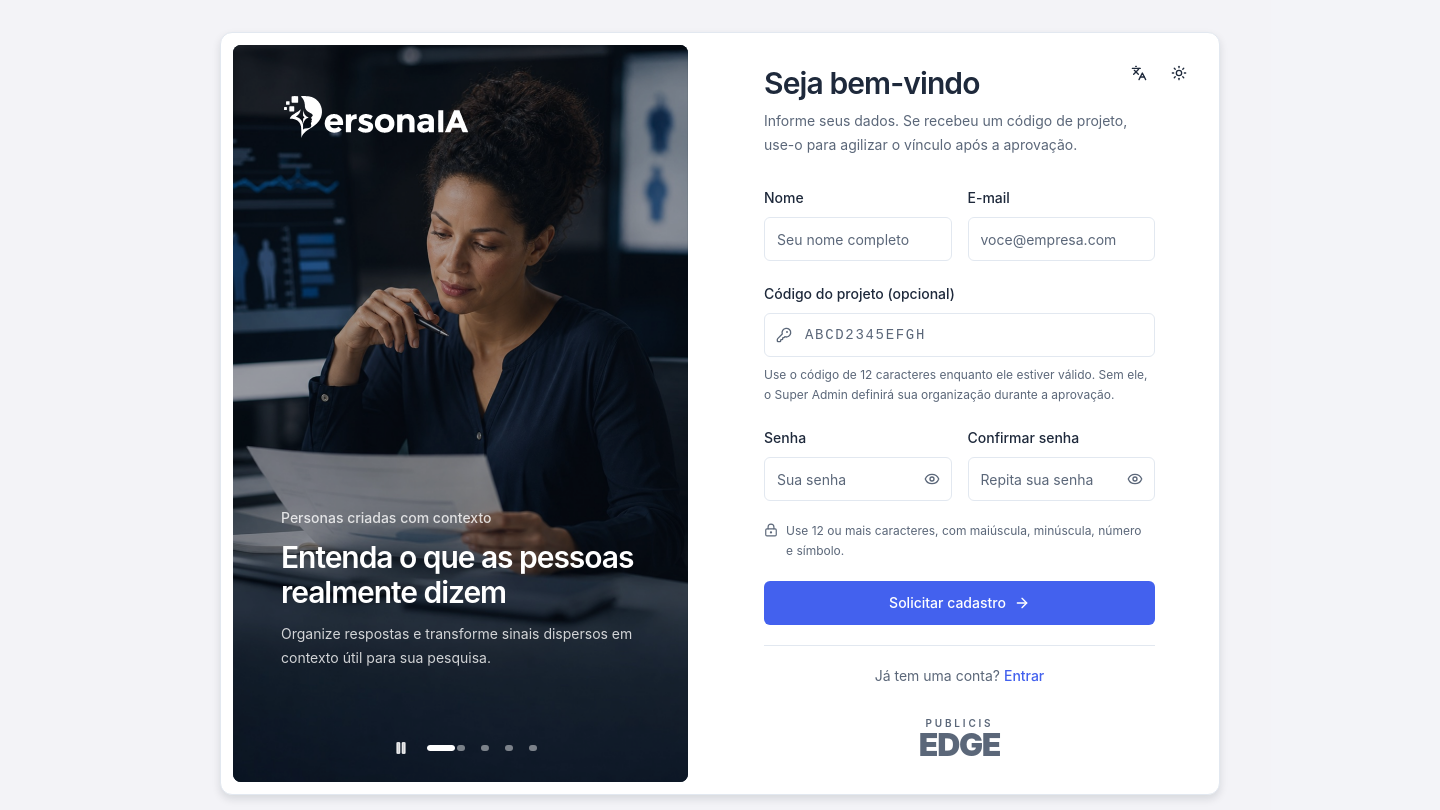
it: RegisterPage › uses the shared authentication layout and toggles each password independently
Expected: the element named "Recursos da PersonaIA" is shown, [233, 45, 688, 782]
Expected: the button named "Idioma" is shown, [1119, 53, 1159, 93]
Type "MinhaSenha!2026" into the password field labelled "Senha" at point(858, 479), box [764, 457, 952, 501]
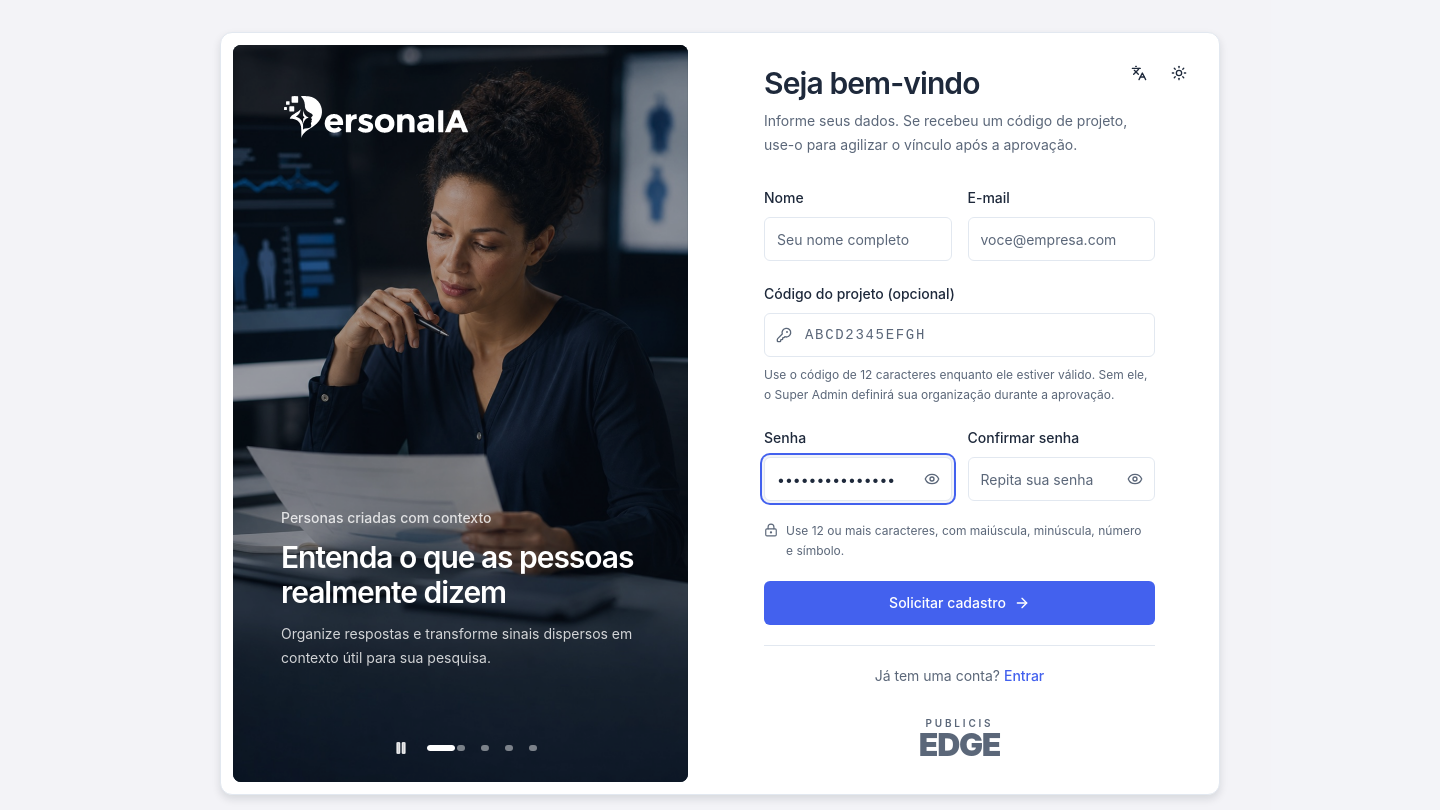
Type "MinhaSenha!2026" into the password field labelled "Confirmar senha" at point(1061, 479), box [968, 457, 1155, 501]
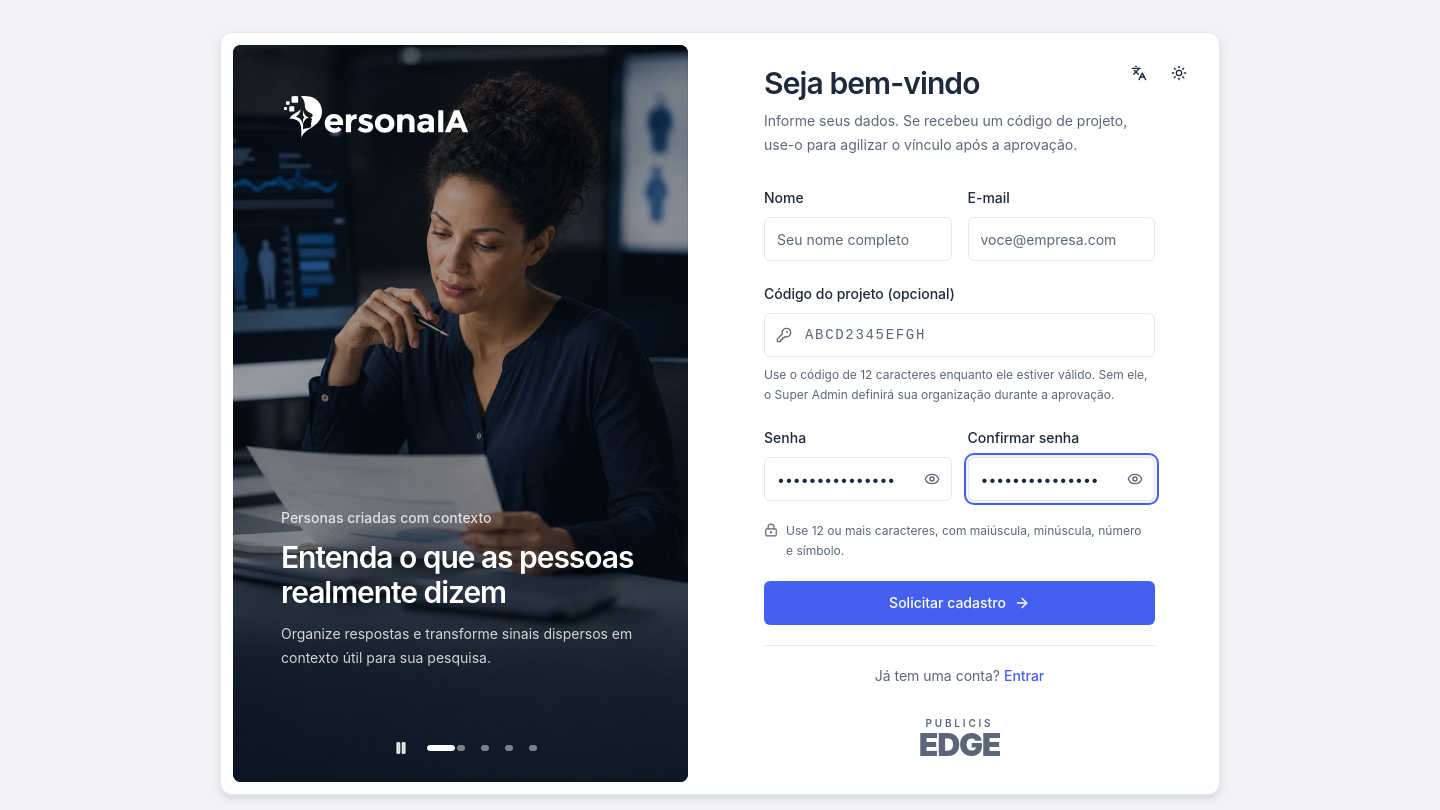
Click the 1st button named "Mostrar senha" at point(932, 479), box [912, 457, 952, 501]
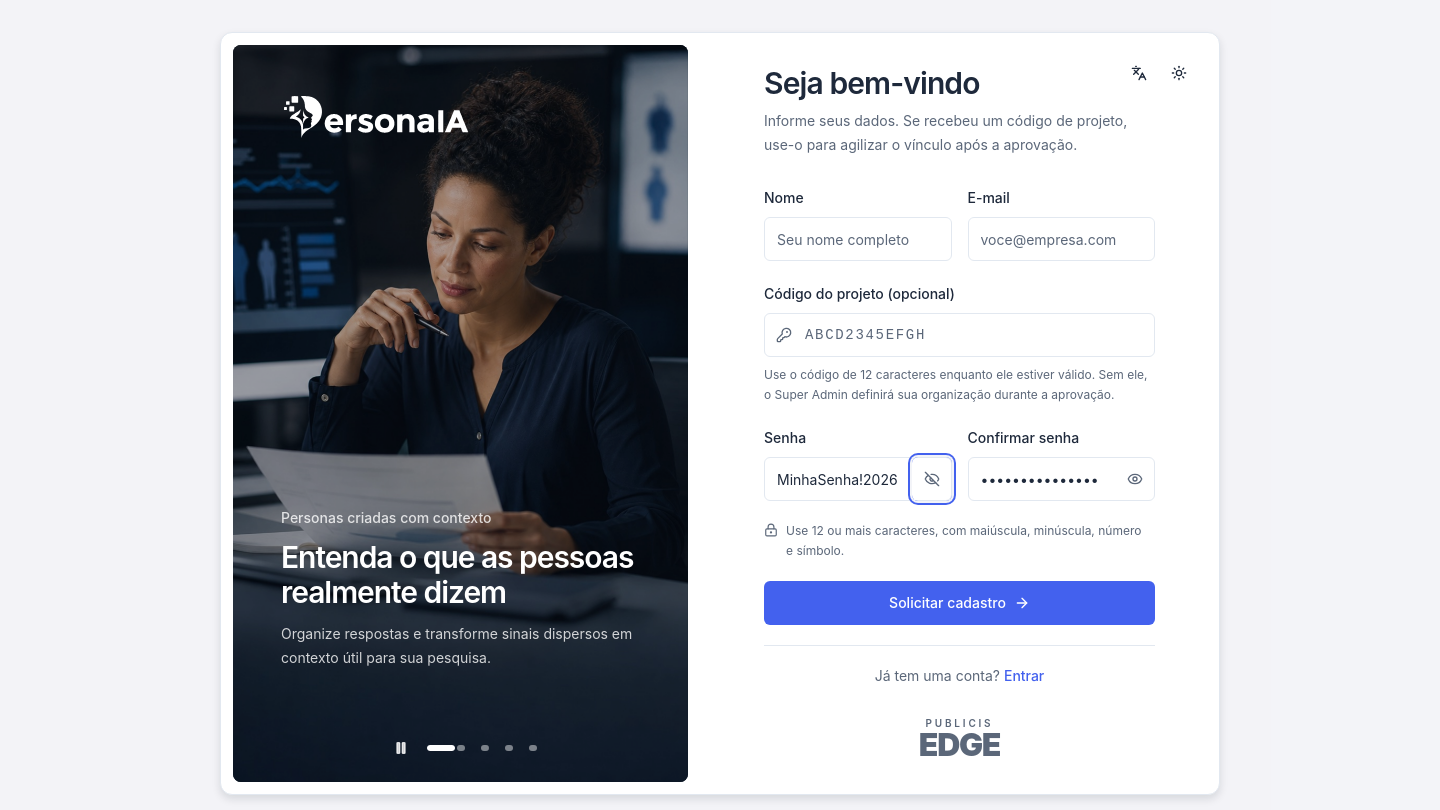
Result: the field labelled "Senha" shows its text at [764, 457, 952, 501]
